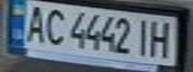2: (112, 15, 136, 56)
4: (81, 11, 103, 52), (66, 8, 87, 50), (100, 12, 118, 53)
A: (21, 2, 51, 44)
C: (39, 6, 69, 47)
H: (145, 17, 175, 59)
I: (133, 16, 157, 58)
